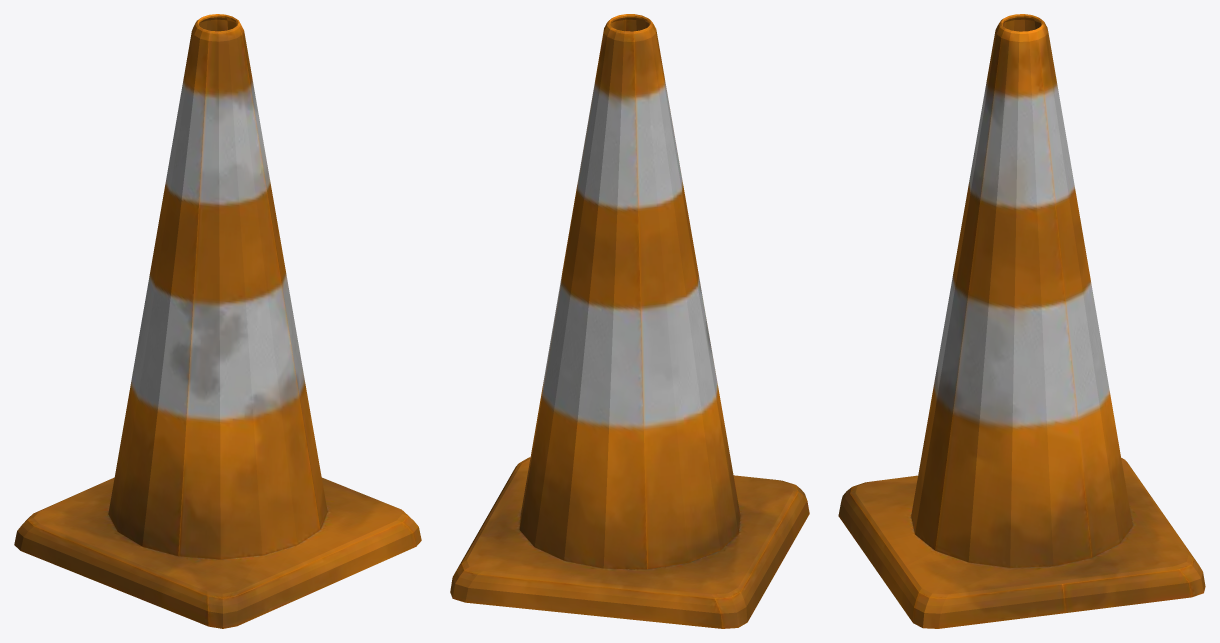
Rendered from strProp_08.glb.
The picture shows the model from 3 angles, left to right: view 1: azimuth 30°, elevation 25°; view 2: azimuth 150°, elevation 25°; view 3: azimuth 270°, elevation 25°; orthographic projection.
Visible parts, largest first — view 1: geometry_0; view 2: geometry_0; view 3: geometry_0.
Part boxes in pixels (x1,y1,x2,y2): geometry_0: (14,14,421,628); geometry_0: (450,14,809,628); geometry_0: (838,14,1205,628).
Bounding box in the file's own units: 0.3148 × 0.5002 × 0.3148.
Materials: 1 (1 with a texture image).
